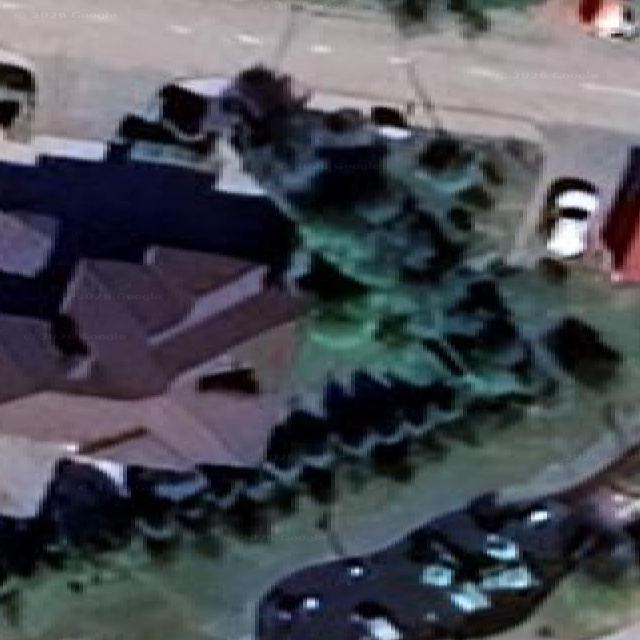car: (543, 180, 597, 258)
